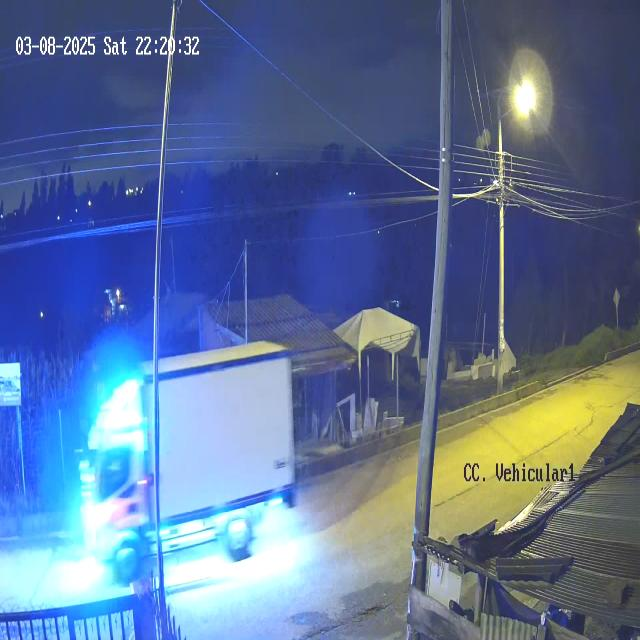TRUCK: (82, 336, 298, 594)
